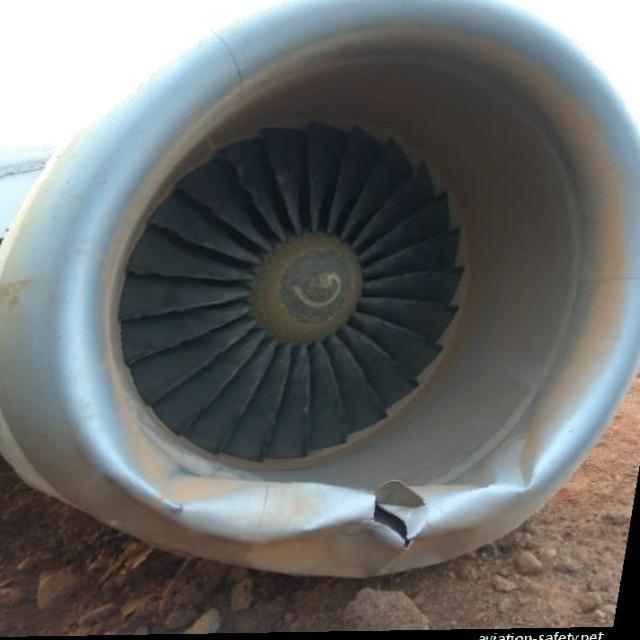crack: (374, 500, 415, 550)
dent: (179, 483, 373, 547), (487, 433, 545, 500)
